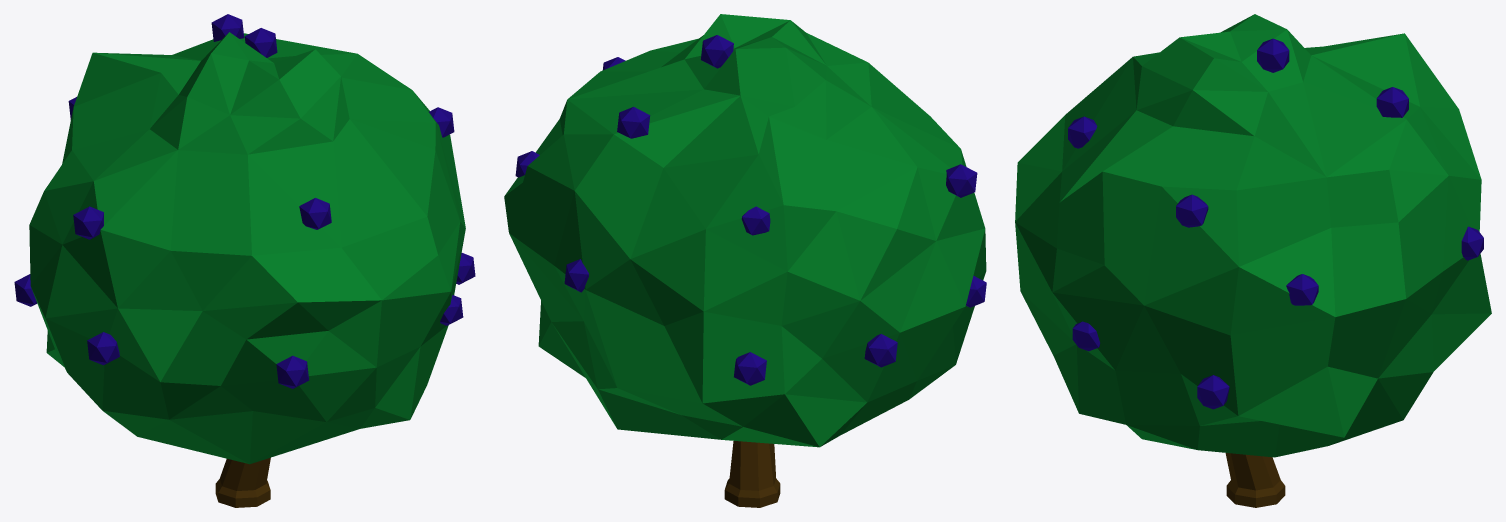
The model's file is krzak.fbx.
3 renders of one model, left to right at view 1: azimuth 30°, elevation 25°; view 2: azimuth 150°, elevation 25°; view 3: azimuth 270°, elevation 25°, orthographic. The views are drawn at different scales.
Visible parts, largest first — view 1: Sphere, Cylinder, Icosphere.003, Icosphere.004, Icosphere.009, Icosphere.013, Icosphere.012, Icosphere.011; view 2: Sphere, Cylinder, Icosphere.006, Icosphere.011, Icosphere.009, Icosphere.005, Icosphere.012, Icosphere.010, Icosphere; view 3: Sphere, Cylinder, Icosphere.012, Icosphere.007, Icosphere.008, Icosphere.011, Icosphere.001, Icosphere.013, Icosphere.002, Icosphere.
Boxes of the visible parts, bbox=[...] form: Sphere: bbox=[29, 32, 465, 464]; Cylinder: bbox=[215, 457, 270, 507]; Icosphere.003: bbox=[276, 355, 309, 388]; Icosphere.004: bbox=[87, 332, 119, 365]; Icosphere.009: bbox=[73, 206, 103, 239]; Icosphere.013: bbox=[299, 198, 331, 229]; Icosphere.012: bbox=[244, 28, 277, 57]; Icosphere.011: bbox=[211, 14, 244, 41]; Sphere: bbox=[504, 14, 986, 447]; Cylinder: bbox=[724, 441, 780, 507]; Icosphere.006: bbox=[734, 352, 766, 385]; Icosphere.011: bbox=[617, 106, 650, 138]; Icosphere.009: bbox=[946, 164, 977, 197]; Icosphere.005: bbox=[864, 334, 897, 367]; Icosphere.012: bbox=[701, 35, 733, 68]; Icosphere.010: bbox=[741, 206, 770, 235]; Icosphere: bbox=[564, 259, 588, 292]; Sphere: bbox=[1015, 14, 1491, 457]; Cylinder: bbox=[1225, 453, 1285, 507]; Icosphere.012: bbox=[1257, 38, 1289, 72]; Icosphere.007: bbox=[1197, 375, 1229, 409]; Icosphere.008: bbox=[1176, 194, 1208, 227]; Icosphere.011: bbox=[1376, 87, 1408, 117]; Icosphere.001: bbox=[1286, 274, 1318, 305]; Icosphere.013: bbox=[1068, 116, 1097, 148]; Icosphere.002: bbox=[1072, 321, 1100, 351]; Icosphere: bbox=[1461, 226, 1483, 260].
Size of the model in its own units: 218 by 230 by 211.
